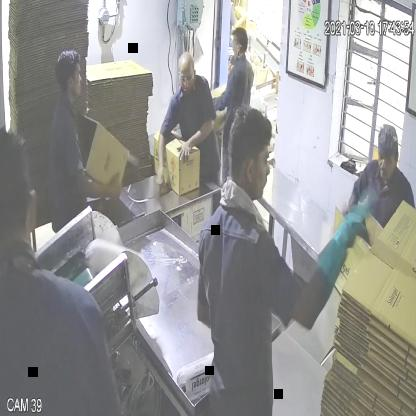glove: (306, 197, 374, 288)
no_glove: (70, 162, 126, 205), (179, 120, 219, 166)
